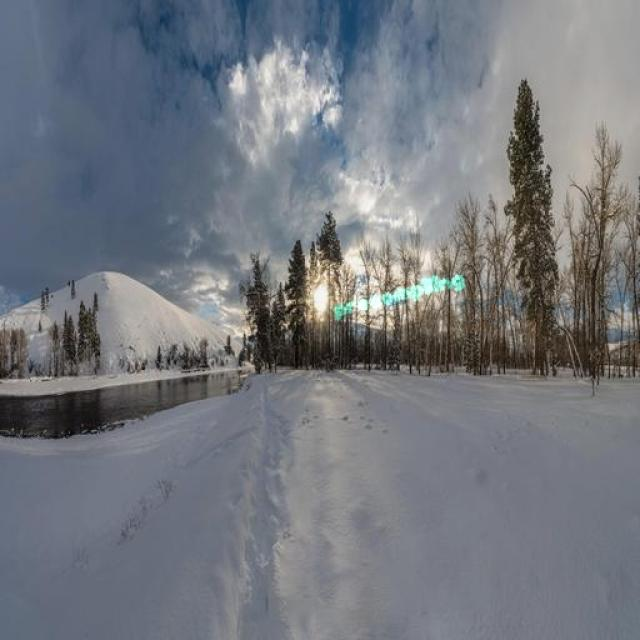watermark: (330, 270, 466, 318)
